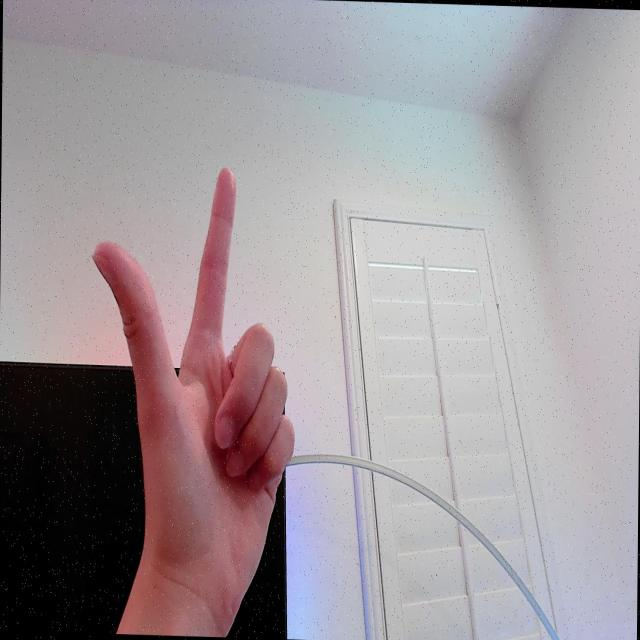L: (85, 159, 305, 621)
